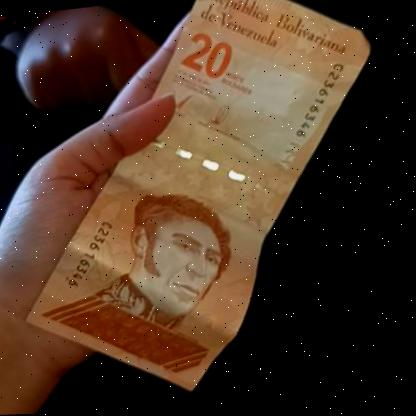twenty-front-vef: (0, 0, 410, 416)
